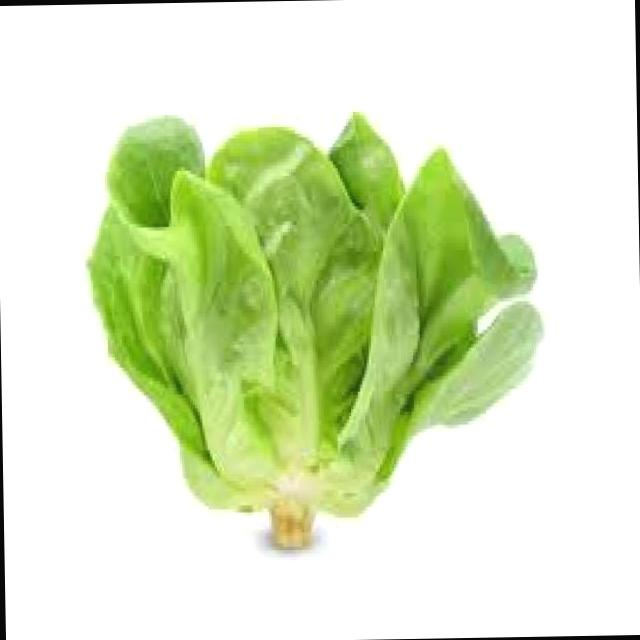Lettuce-Ready-to-Harvest: (89, 114, 540, 514)
